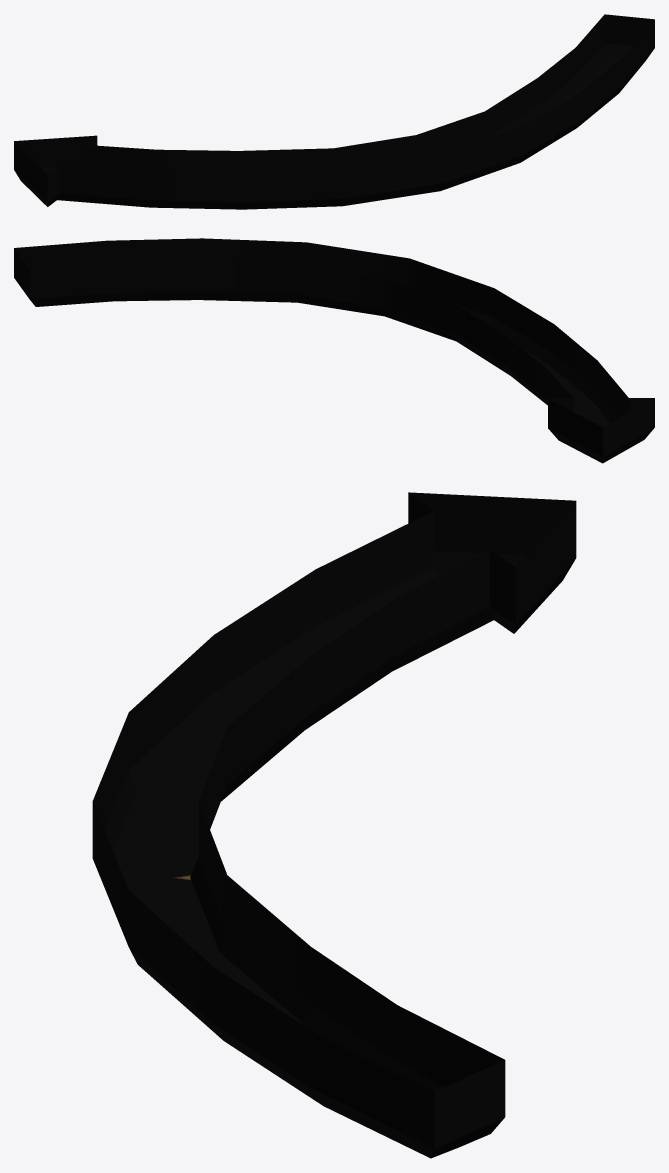
File: arrow02-02.FBX
3 renders of one model, top to bottom at view 1: azimuth 30°, elevation 25°; view 2: azimuth 150°, elevation 25°; view 3: azimuth 270°, elevation 25°, orthographic. The views are drawn at different scales.
Visible parts, largest first — view 1: Box008; view 2: Box008; view 3: Box008.
Boxes of the visible parts, box(x1,y1,x2,y2) form: Box008: box(14, 14, 654, 209); Box008: box(14, 238, 654, 463); Box008: box(92, 492, 576, 1158).
Size of the model in its own units: 1684 by 100 by 574.
